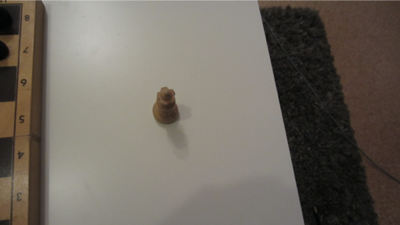white-queen: (151, 86, 180, 124)
